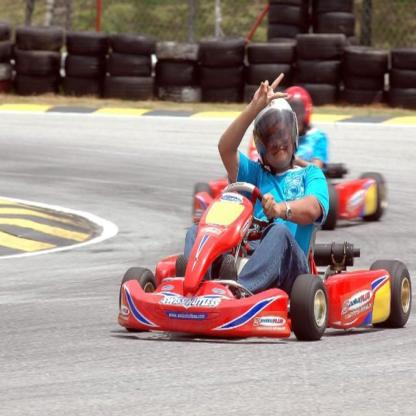Helmet: (254, 98, 302, 171), (284, 85, 314, 136)
